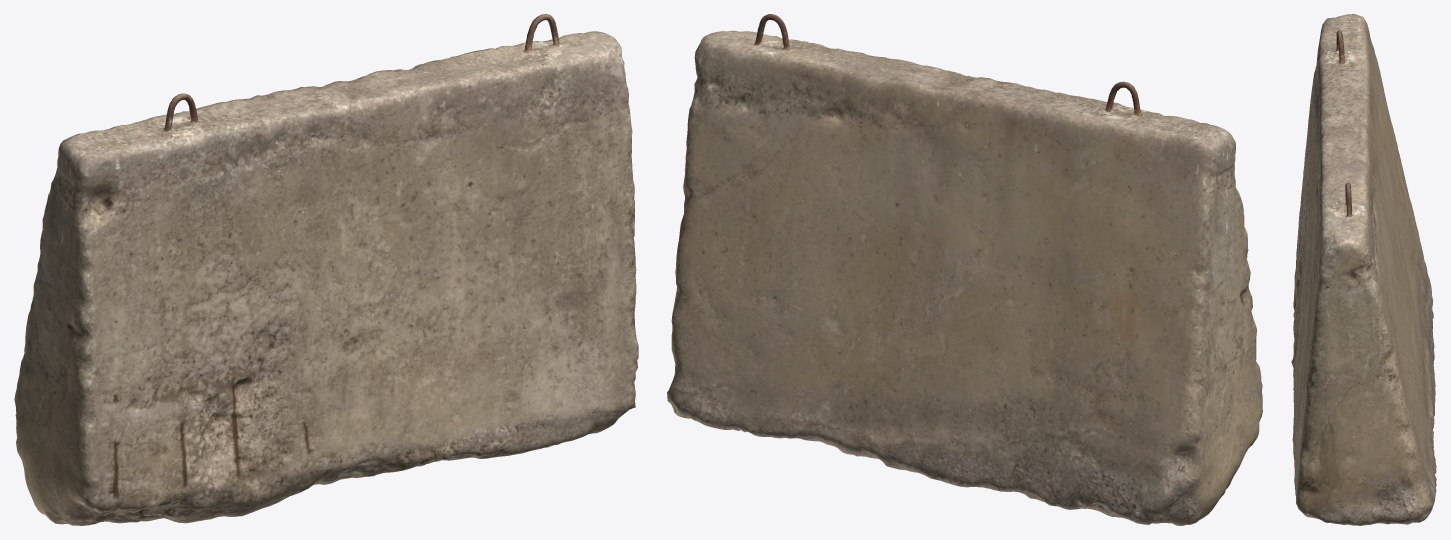
The model's file is concrete_road_barrier_02.glb.
The picture shows the model from 3 angles, left to right: view 1: azimuth 30°, elevation 25°; view 2: azimuth 150°, elevation 25°; view 3: azimuth 270°, elevation 25°; orthographic projection. The views are drawn at different scales.
Parts seen in each view (by area): view 1: concrete_road_barrier_02; view 2: concrete_road_barrier_02; view 3: concrete_road_barrier_02.
Boxes of the visible parts, x1,y1,x2,y2 form: concrete_road_barrier_02: (14, 14, 638, 525); concrete_road_barrier_02: (667, 14, 1262, 525); concrete_road_barrier_02: (1291, 14, 1436, 525).
Size of the model in its own units: 1.57 by 1.11 by 0.4422.
1 material, 1 textured.
